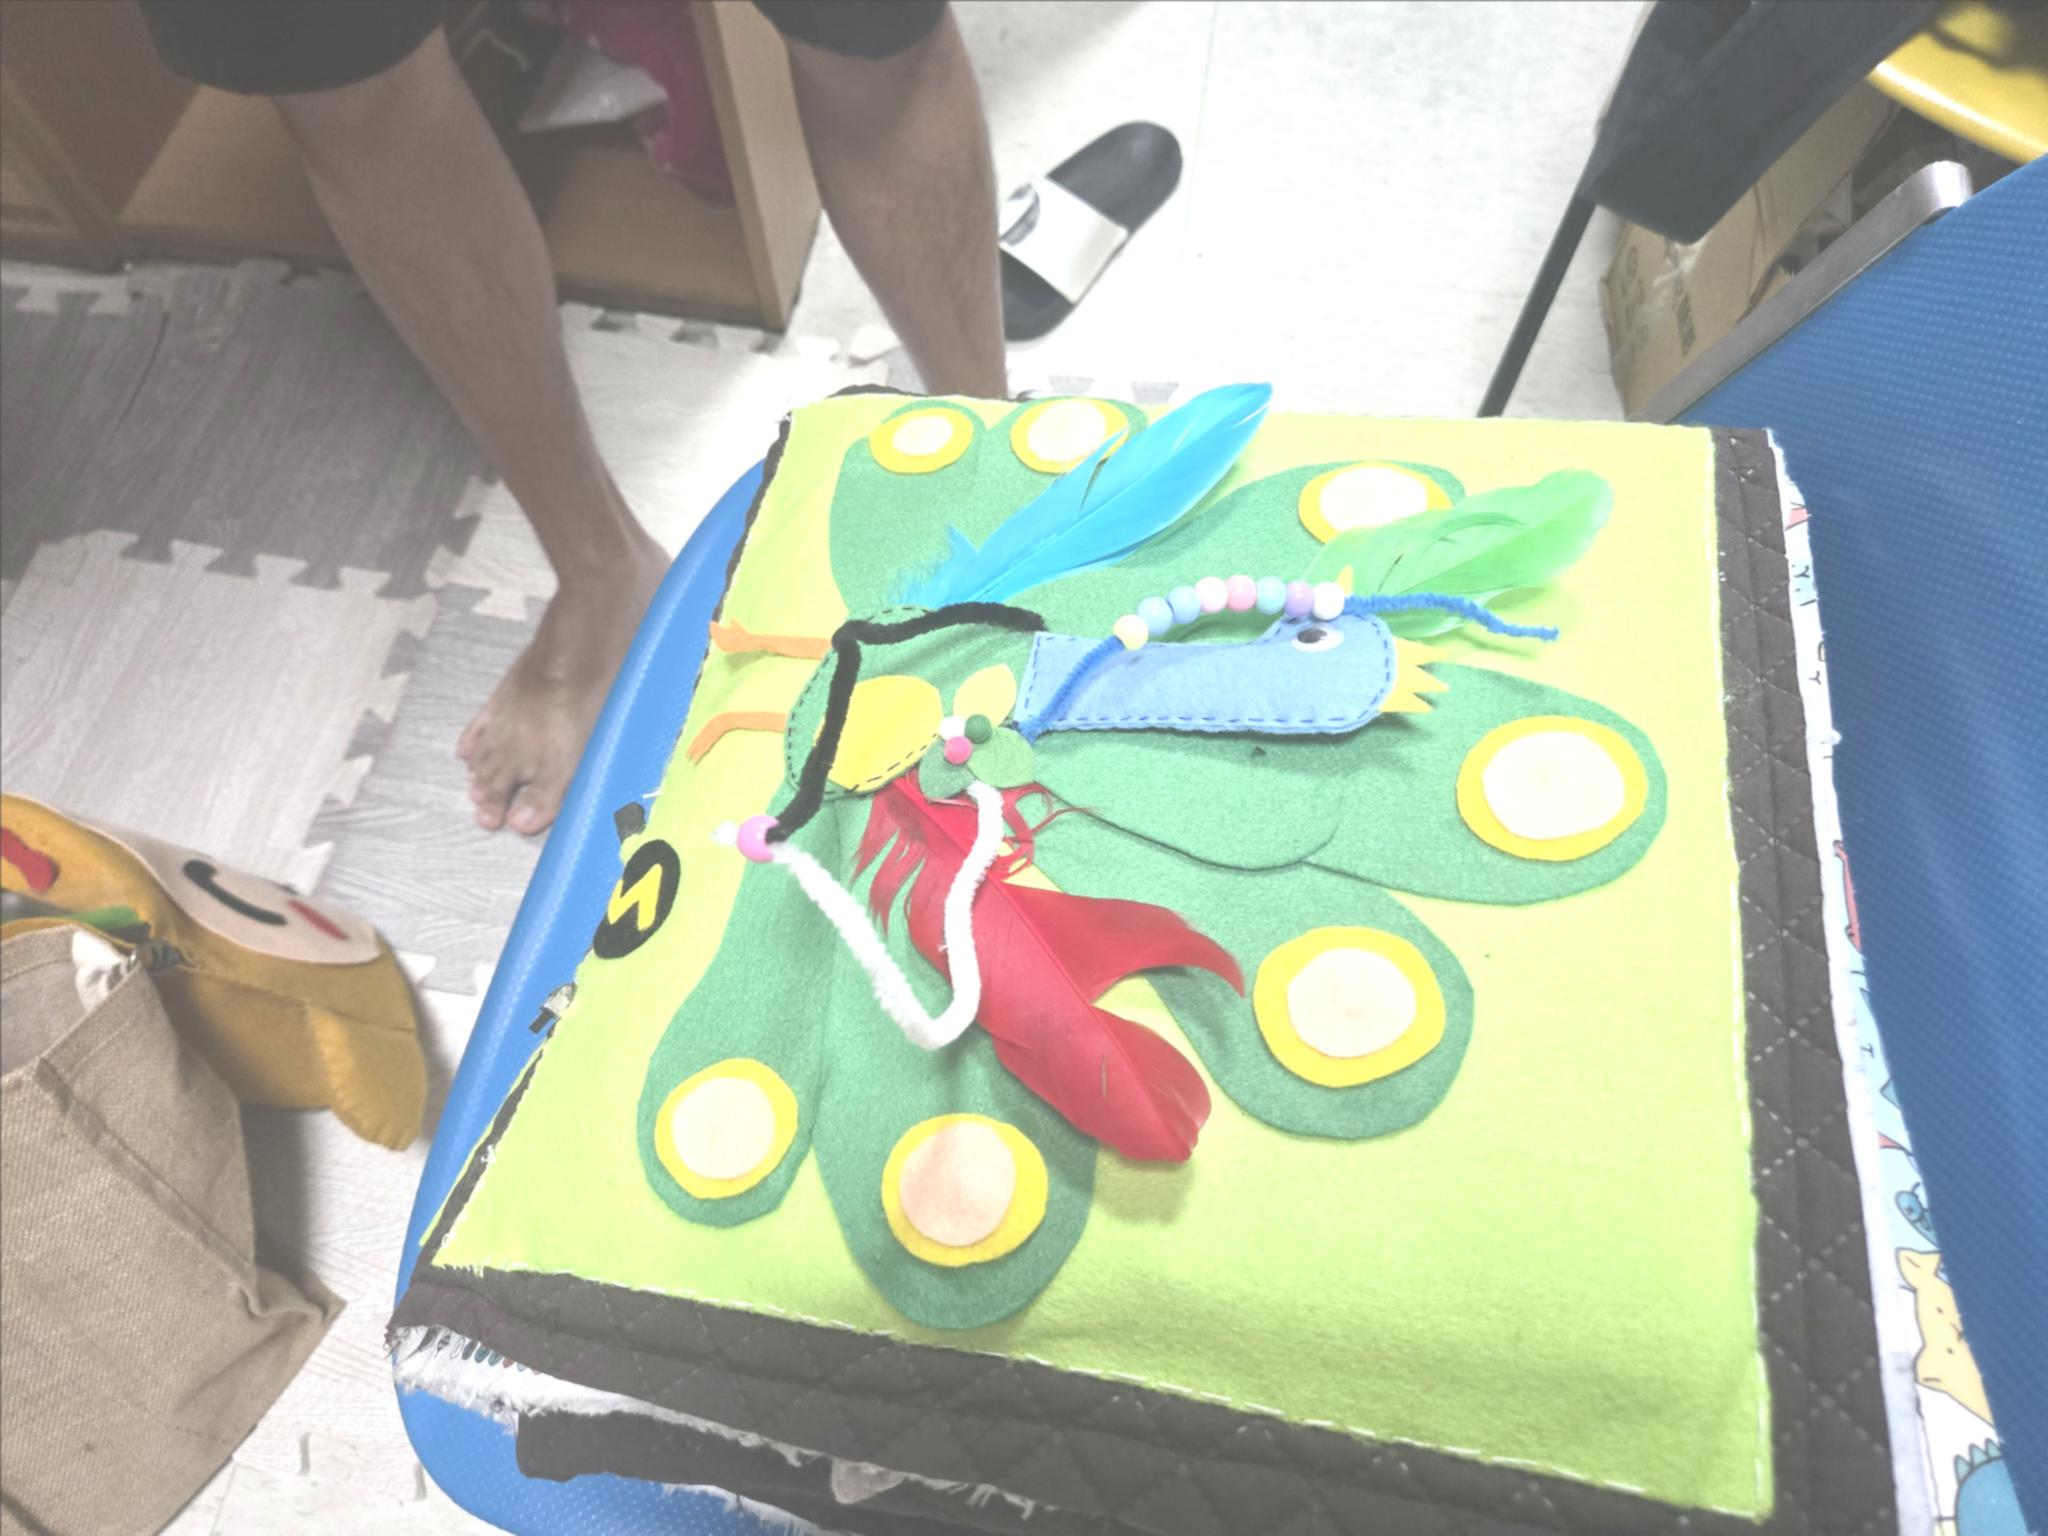bead: (732, 802, 784, 871), (1311, 576, 1353, 623), (1159, 587, 1205, 628), (1250, 573, 1288, 620), (1192, 579, 1229, 621), (1221, 571, 1261, 608), (1118, 611, 1150, 652), (1142, 600, 1171, 641), (1287, 582, 1314, 613)
